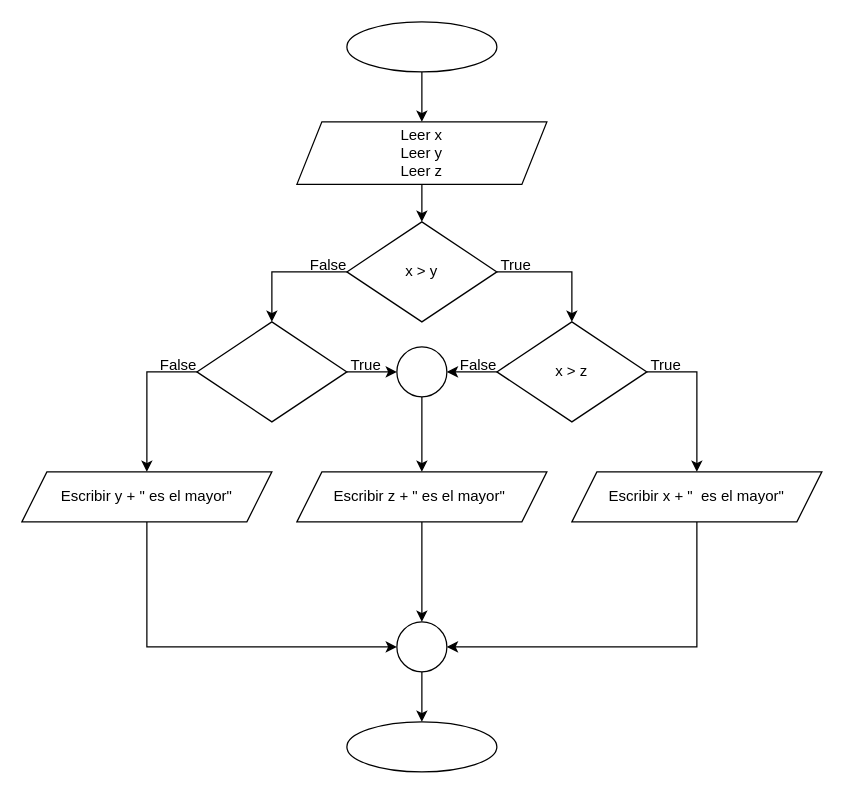
Some shapes in this 844 by 794 pixel diagram are drawn without their labels. Each missing label, with the box of its shape:
Fin: (346, 721, 497, 772)
Inicio: (346, 21, 497, 72)
z > y: (196, 321, 347, 422)
